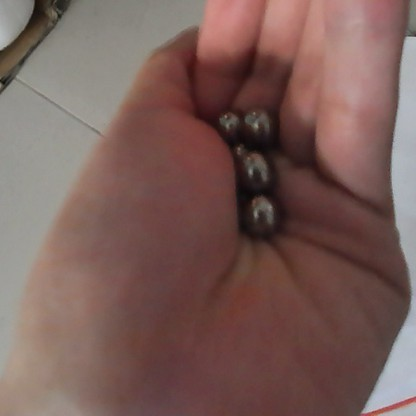ironball: (238, 195, 282, 241), (236, 154, 277, 194), (242, 105, 273, 149), (213, 108, 243, 143), (227, 139, 250, 163)
